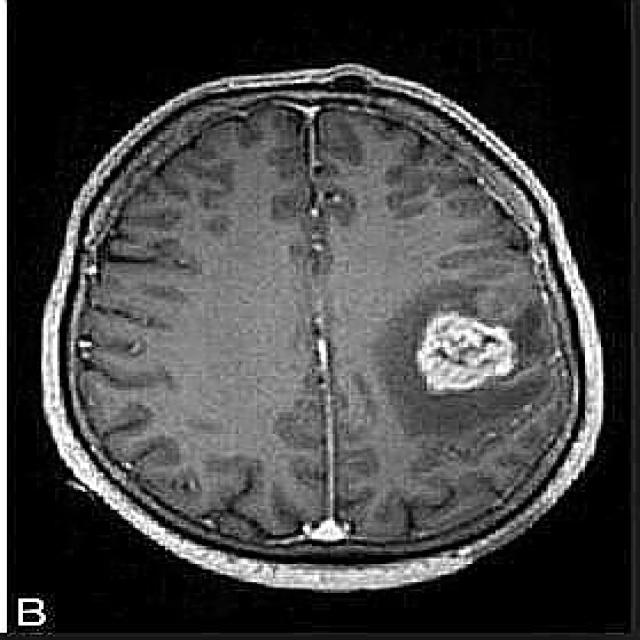Tumor-Cell: (393, 296, 529, 391)
